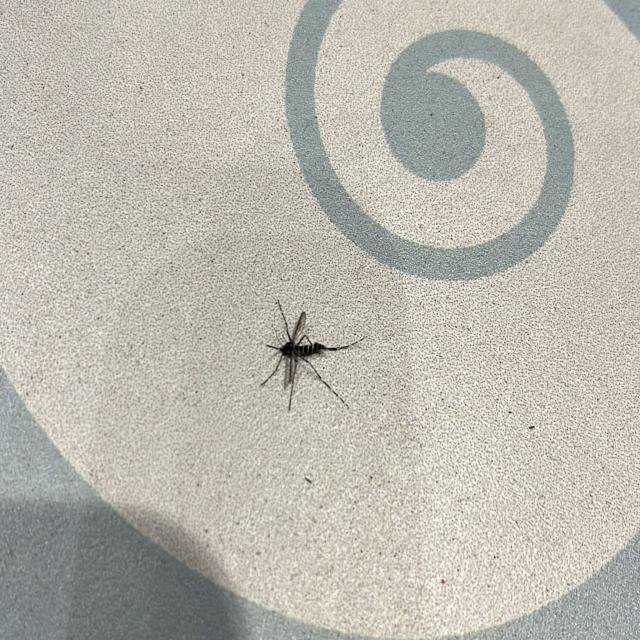albopictus: (256, 289, 364, 416)
